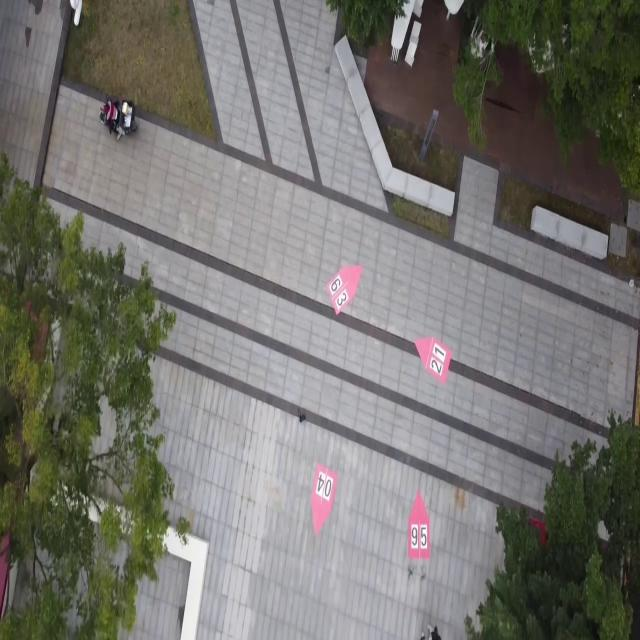-sign-: (326, 264, 362, 318), (414, 334, 452, 385), (311, 461, 337, 535), (408, 490, 431, 562)
